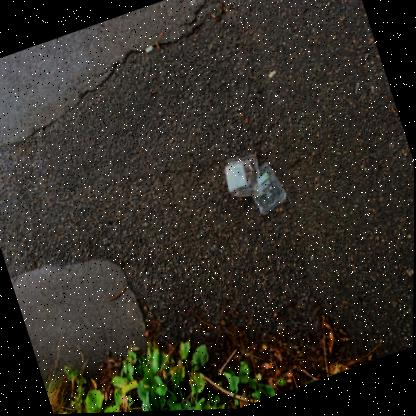Plastic: (252, 163, 286, 215), (225, 156, 263, 198)
Waste: (145, 45, 155, 54)
